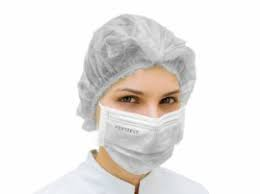with_mask_and_cap: (86, 17, 187, 175)
